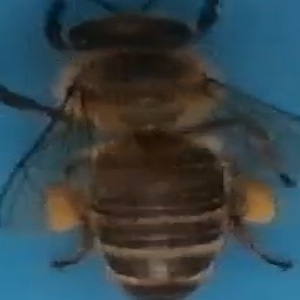bee: (12, 3, 293, 300)
